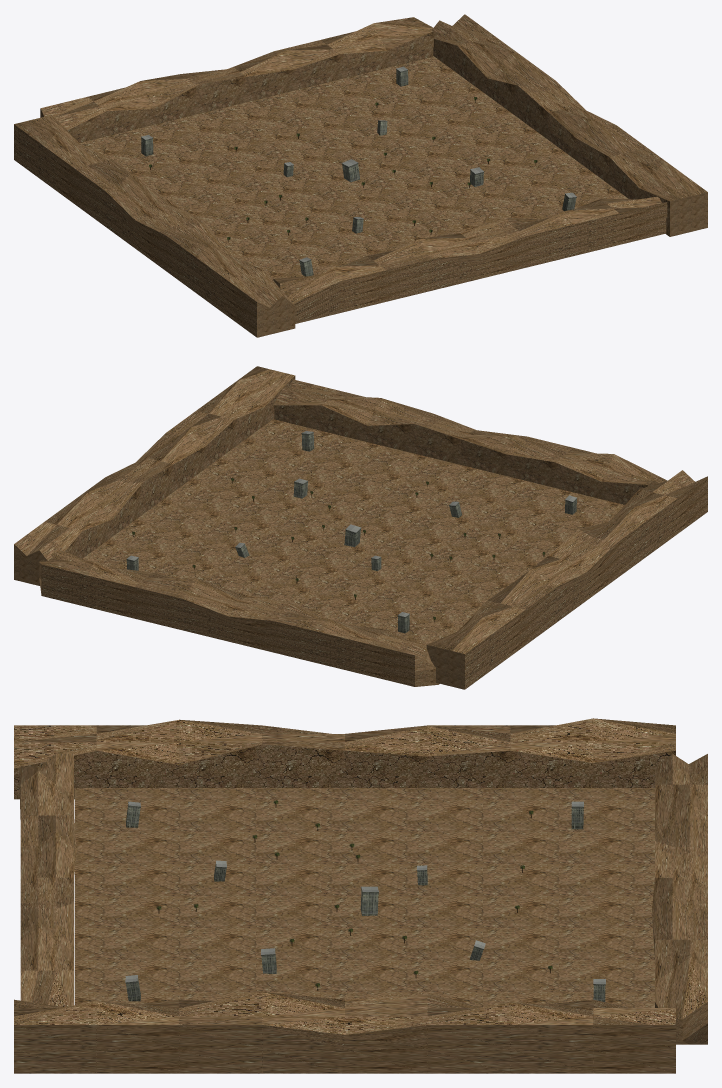
Rendered from city_ace.glb.
3 views of the same model, one above another, from view 1: azimuth 30°, elevation 25°; view 2: azimuth 150°, elevation 25°; view 3: azimuth 270°, elevation 25° (orthographic). The views are drawn at different scales.
Parts seen in each view (by area): view 1: Plane, Cube.010, Cube.009, Cube.012, Cube.011; view 2: Plane, Cube.012, Cube.010, Cube.009, Cube.011; view 3: Plane, Cube.011, Cube.010, Cube.012, Cube.009.
Part boxes in pixels (x1=…): Plane: x1=80, y1=56, x2=628, y2=279; Cube.010: x1=14, y1=115, x2=295, y2=337; Cube.009: x1=273, y1=196, x2=667, y2=323; Cube.012: x1=40, y1=17, x2=437, y2=142; Cube.011: x1=431, y1=14, x2=707, y2=236; Plane: x1=82, y1=419, x2=624, y2=645; Cube.012: x1=39, y1=550, x2=439, y2=686; Cube.010: x1=426, y1=470, x2=707, y2=689; Cube.009: x1=274, y1=379, x2=667, y2=504; Cube.011: x1=14, y1=366, x2=295, y2=585; Plane: x1=74, y1=788, x2=654, y2=1007; Cube.011: x1=14, y1=992, x2=675, y2=1073; Cube.010: x1=14, y1=718, x2=675, y2=799; Cube.012: x1=652, y1=753, x2=707, y2=1044; Cube.009: x1=19, y1=753, x2=76, y2=1006.
Size of what is drawn, in the model's own units: 48.06 by 5.13 by 47.06.
Materials: 4 (4 with a texture image).
